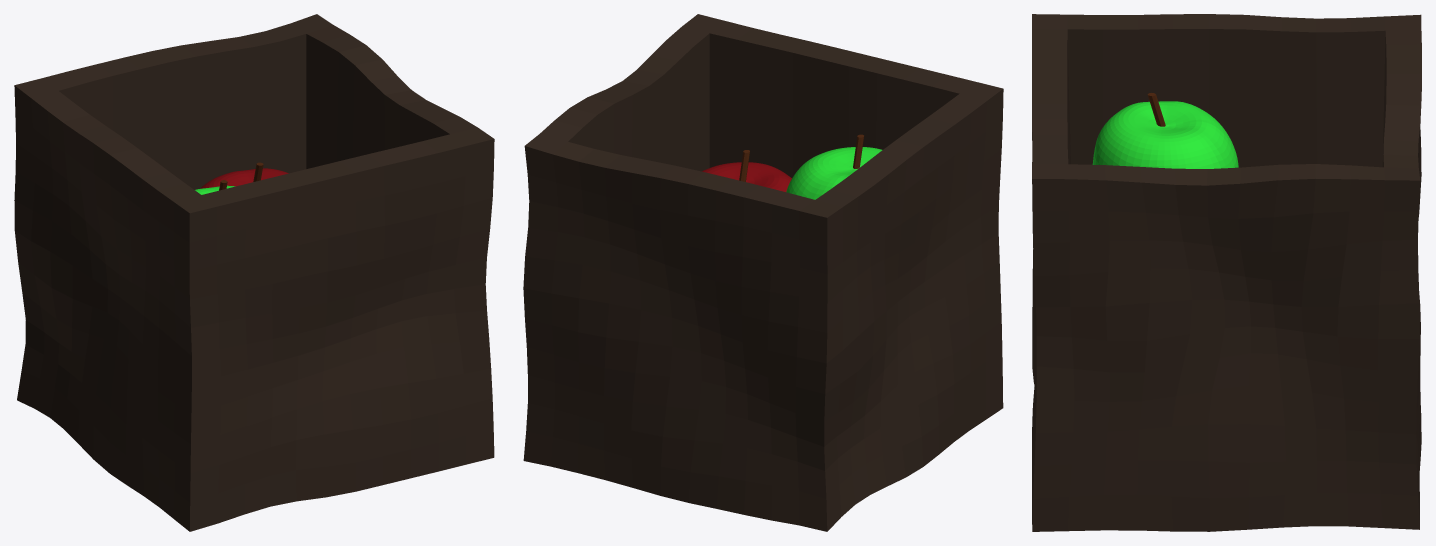
Rendered from foodPakage.fbx.
3 renders of one model, left to right at view 1: azimuth 30°, elevation 25°; view 2: azimuth 150°, elevation 25°; view 3: azimuth 270°, elevation 25°, orthographic. The views are drawn at different scales.
Visible parts, largest first — view 1: Куб, Цилиндр.005; view 2: Куб, Цилиндр.001, Цилиндр.003; view 3: Куб, Цилиндр.001.
Boxes of the visible parts, <box> form: Куб: <box>14,14,494,531</box>; Цилиндр.005: <box>200,162,288,188</box>; Куб: <box>523,14,1003,531</box>; Цилиндр.001: <box>786,134,882,199</box>; Цилиндр.003: <box>702,150,791,191</box>; Куб: <box>1032,14,1421,531</box>; Цилиндр.001: <box>1092,93,1238,168</box>.
Bounding box in the file's own units: 99.99 × 100 × 100.
